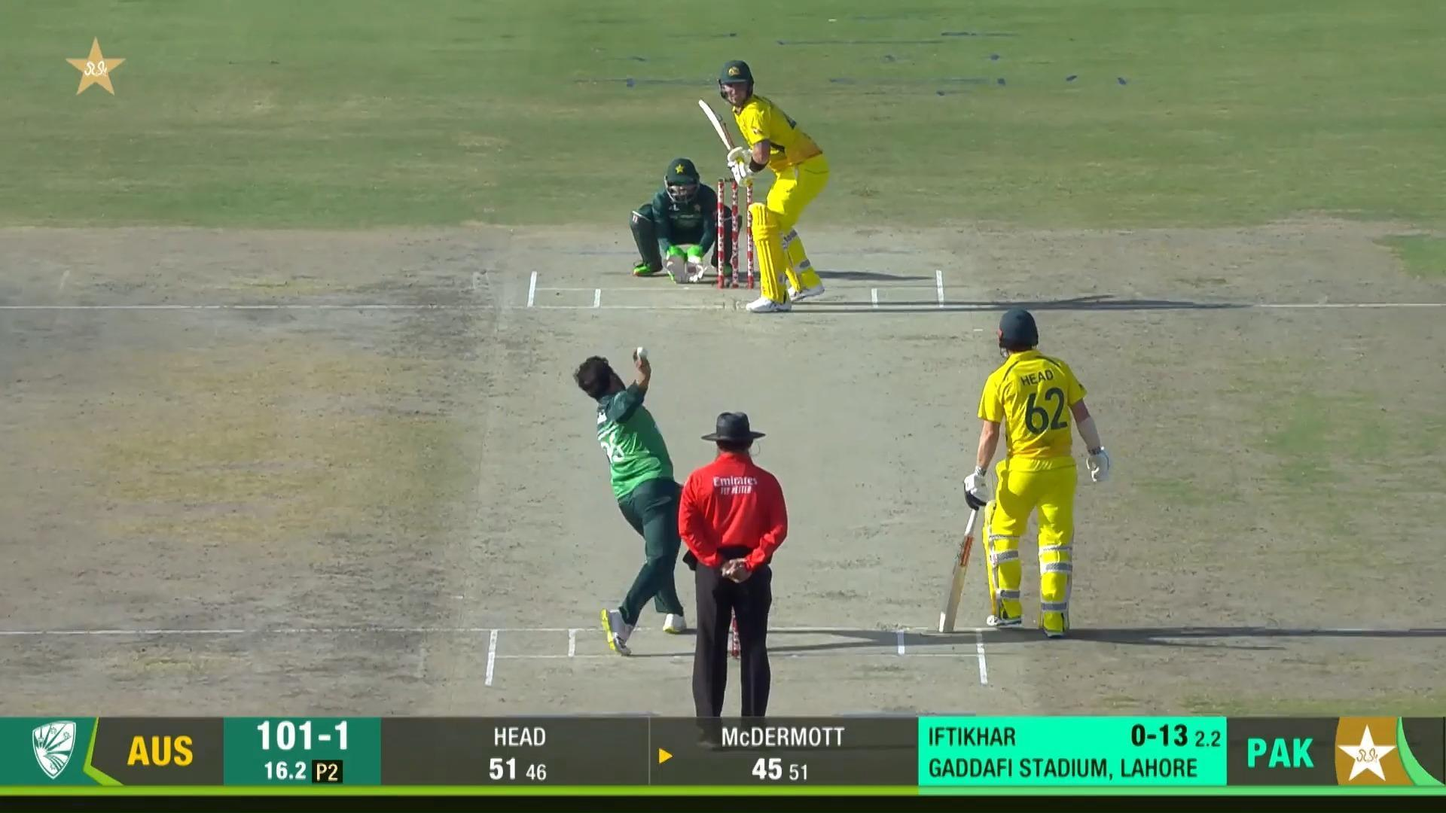BM 1: (697, 59, 832, 314)
BO: (575, 344, 686, 658)
